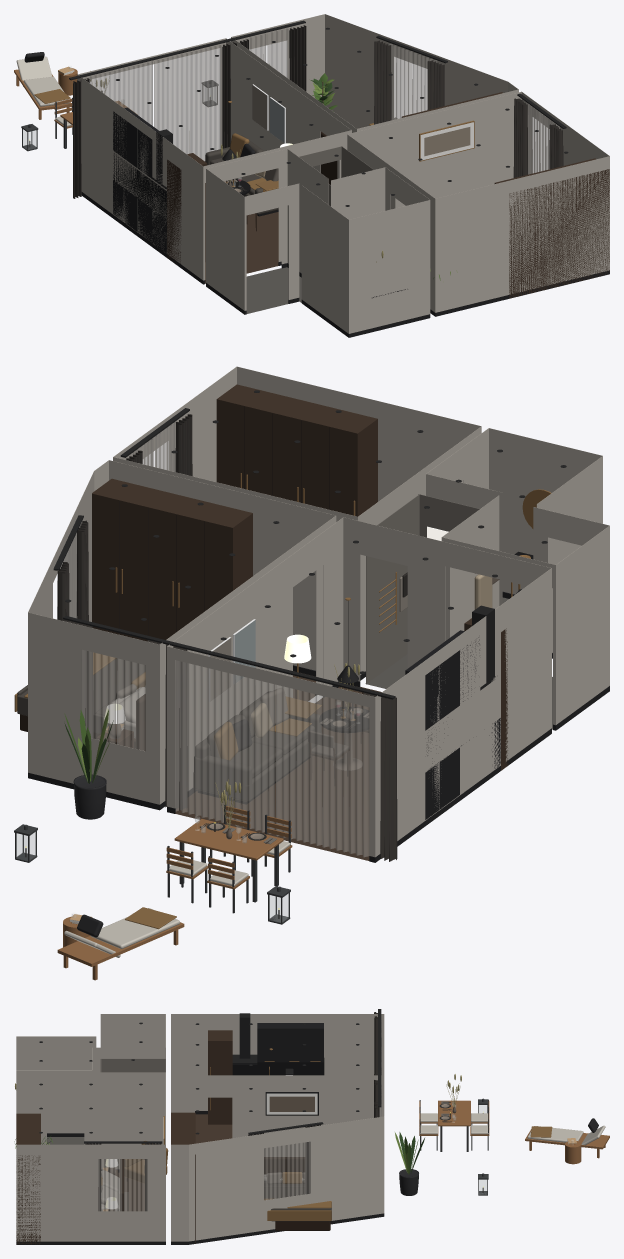
File: unit-0.B-noir.glb
3 views of the same model, one above another, from view 1: azimuth 30°, elevation 25°; view 2: azimuth 150°, elevation 25°; view 3: azimuth 270°, elevation 25° (orthographic). The views are drawn at different scales.
Visible parts, largest first — view 1: int-wall, int-sheer, int-joineryTall, int-curtain, int-joinery, int-matteBlack, int-floor, int-hallFloor, int-splash, int-outCushion, int-bathWall, int-teak (+7 smaller); view 2: int-wall, int-joineryTall, int-sheer, int-floor, int-curtain, int-joinery, int-bathWall, int-teak, int-sofa, int-matteBlack, int-outdoor, int-outCushion (+10 smaller); view 3: int-wall, int-sheer, int-joineryTall, int-joinery, int-teak, int-matteBlack, int-headboard, int-outCushion, int-floor, int-splash, int-curtain, int-bathWall (+8 smaller).
Boxes of the visible parts, x1,y1,x2,y2 form: int-wall: (77, 14, 609, 333); int-sheer: (84, 27, 559, 174); int-joineryTall: (167, 92, 609, 298); int-curtain: (73, 25, 563, 198); int-joinery: (81, 107, 609, 337); int-matteBlack: (69, 20, 566, 256); int-floor: (205, 212, 278, 283); int-hallFloor: (246, 267, 301, 313); int-splash: (113, 153, 166, 217); int-outCushion: (16, 56, 72, 126); int-bathWall: (299, 146, 373, 206); int-teak: (14, 68, 137, 128); int-wall: (28, 366, 609, 857); int-joineryTall: (92, 384, 508, 770); int-sheer: (57, 420, 369, 857); int-floor: (175, 671, 381, 860); int-curtain: (57, 414, 397, 861); int-joinery: (28, 591, 609, 862); int-bathWall: (366, 494, 479, 684); int-teak: (57, 806, 292, 980); int-sofa: (193, 691, 321, 801); int-matteBlack: (53, 408, 497, 826); int-outdoor: (14, 804, 290, 924); int-outCushion: (64, 841, 290, 957); int-wall: (16, 1014, 384, 1241); int-sheer: (98, 1020, 381, 1211); int-joineryTall: (16, 1030, 232, 1244); int-joinery: (16, 1023, 384, 1244); int-teak: (419, 1100, 609, 1164); int-matteBlack: (84, 1009, 381, 1143); int-headboard: (120, 1157, 330, 1230); int-outCushion: (420, 1113, 605, 1147); int-floor: (118, 1114, 232, 1210); int-splash: (232, 1058, 324, 1075); int-curtain: (85, 1012, 379, 1211); int-bathWall: (100, 1058, 165, 1072).
Bounding box in the file's own units: 7.77 × 2.82 × 14.48.
